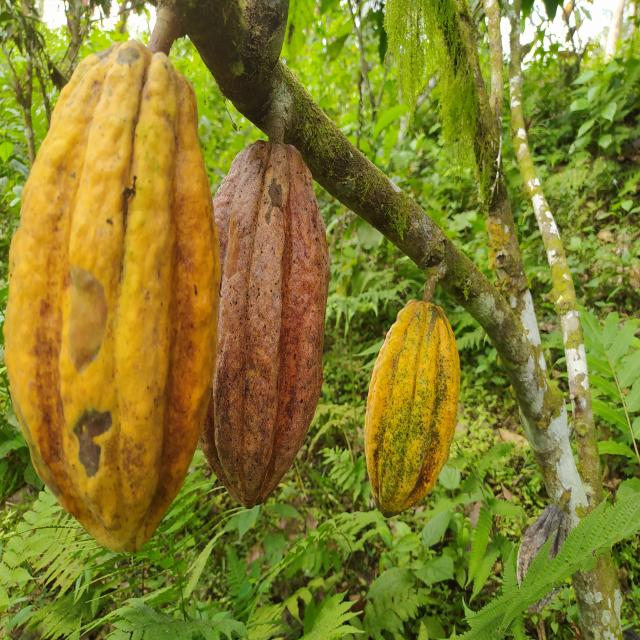Sana: (4, 39, 223, 552), (197, 138, 331, 510), (364, 297, 463, 521)
